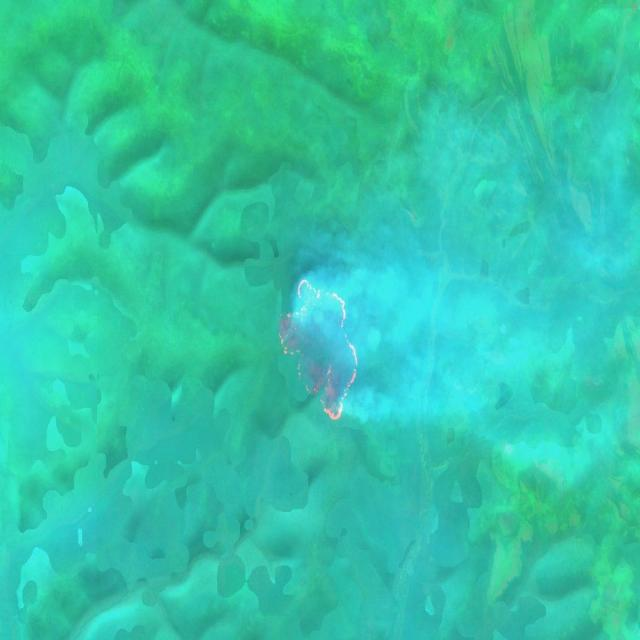fire: (277, 274, 363, 422)
